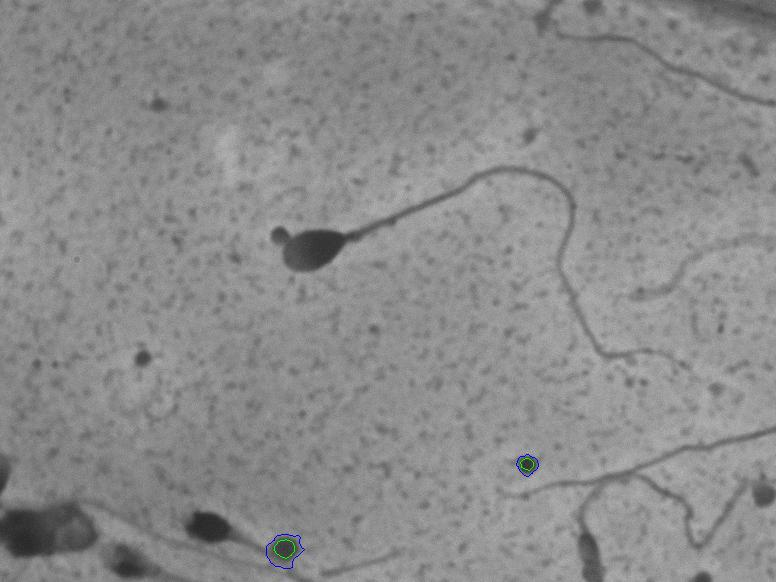Normal: (272, 150, 695, 385)
